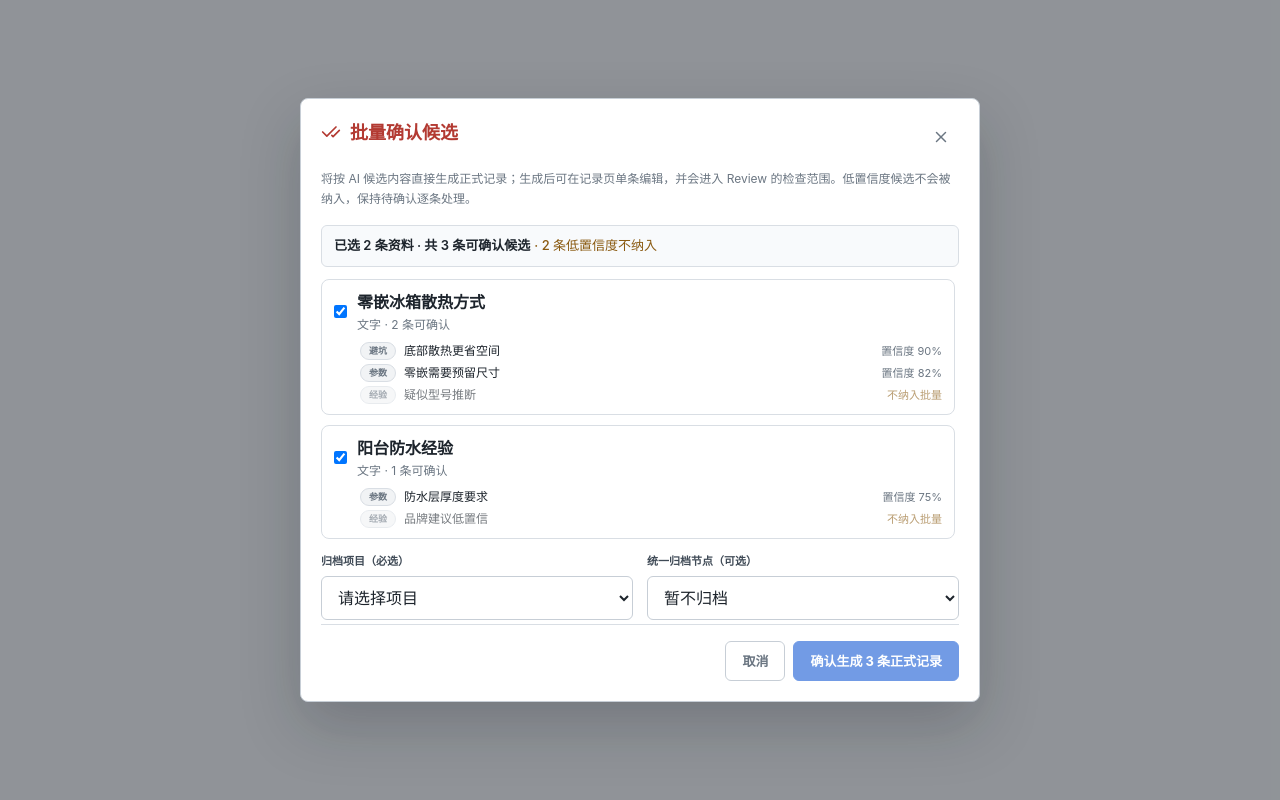
Test: BatchConfirmDialog › requires a project and includes the chosen node in the payload
The image size is (1280, 800).
Check: the text "底部散热更省空间" is shown, box 404,342 -> 500,360
Select "新房装修" in the dropdown named "归档项目": (477, 598) 321,576 -> 633,620
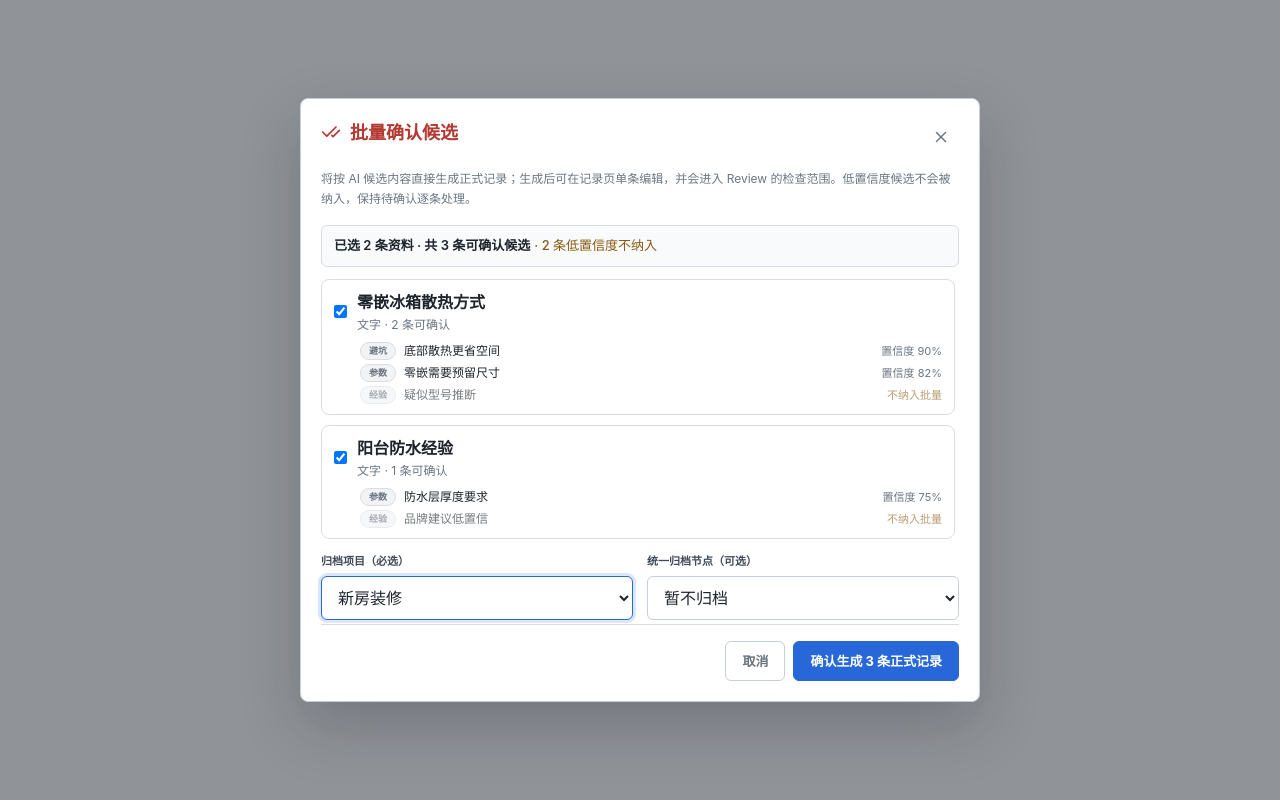
Select "冰箱" in the dropdown named "统一归档节点": (803, 598) 647,576 -> 959,620
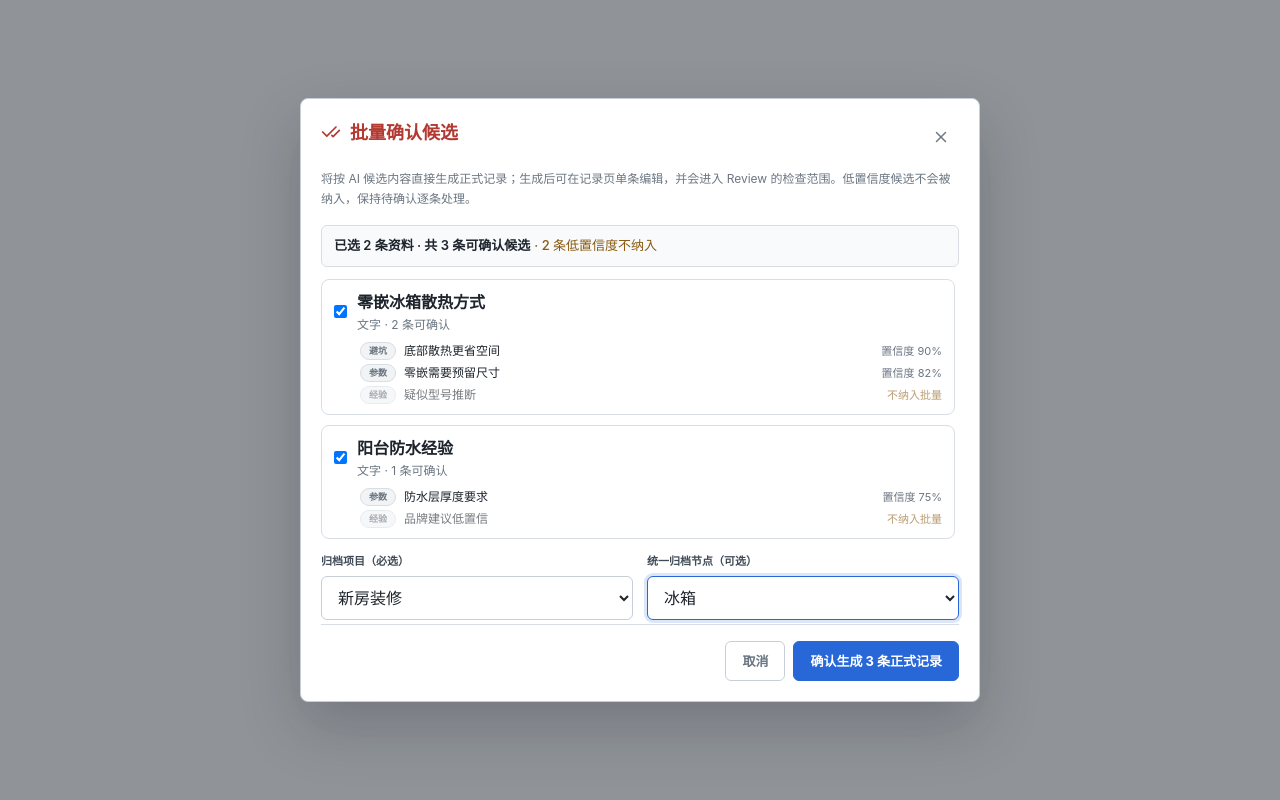
Check: the button "确认生成 3 条正式记录" is enabled
Click the button "确认生成 3 条正式记录": (876, 661) 793,641 -> 959,681
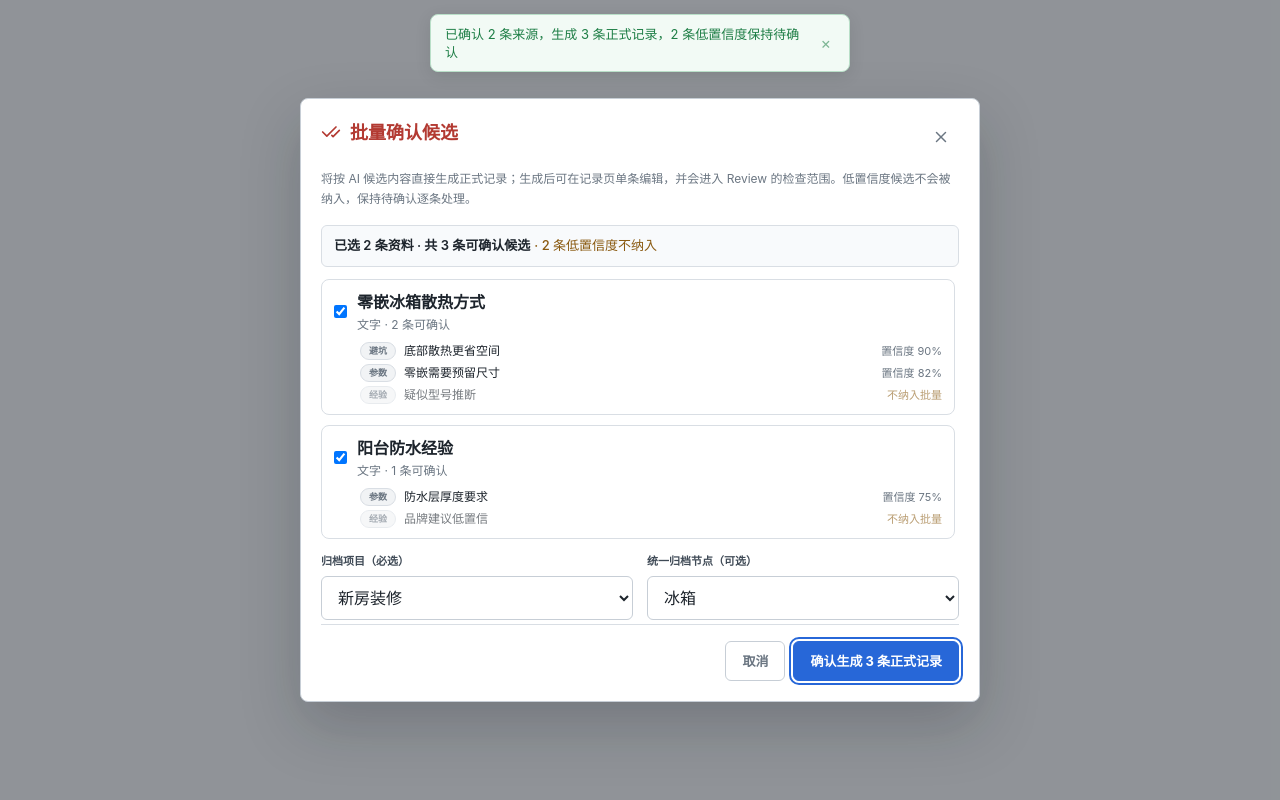
Check: the text "已确认 2 条来源，生成 3 条正式记录，2 条低置信度保持待确认" is shown, box 445,25 -> 806,61
